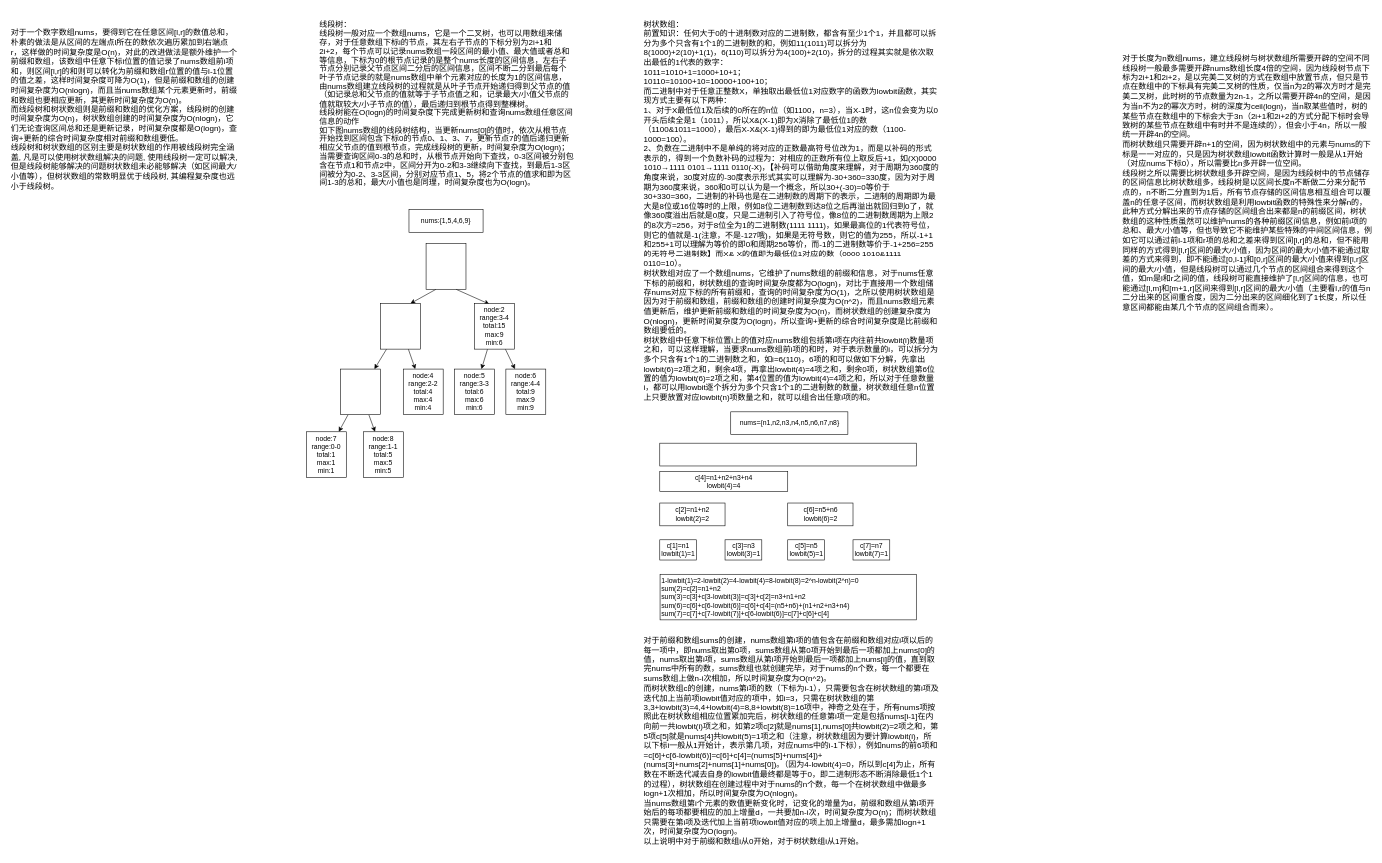
Some shapes in this 1382 by 863 pixel diagram are drawn without their labels. Each missing label, with the centre of its shape:
c[8]=n1+n2+n3+n4+n5+n6+n7+n8 lowbit(8)=8: the point at 787,454
node:0 range:0-4 total:25 max:9 min:1: the point at 446,266
node:1 range:0-2 total:10 max:5 min:1: the point at 400,326
node:3 range:0-1 total:6 max:5 min:1: the point at 360,392
